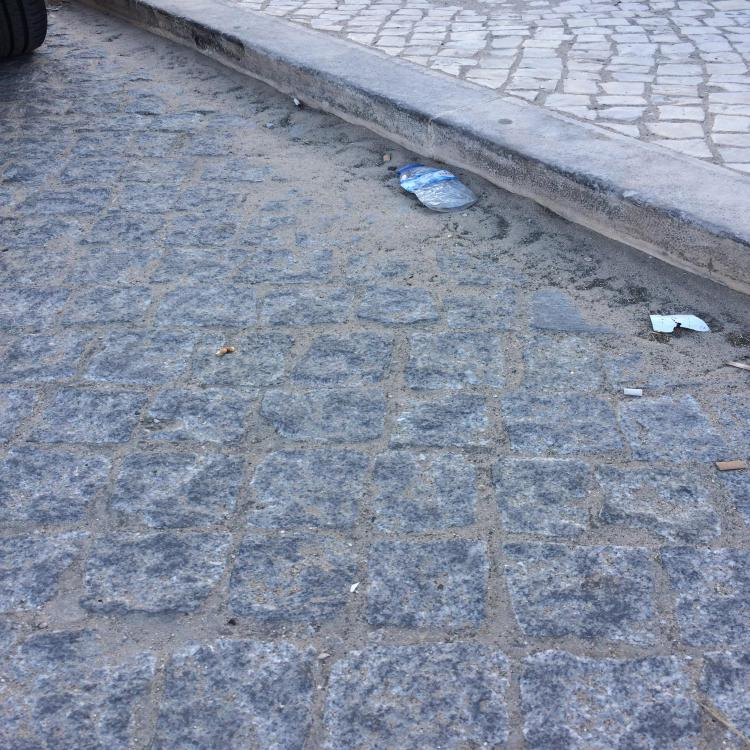Cigarette: (715, 460, 747, 470), (624, 388, 643, 396), (294, 98, 302, 107), (384, 154, 390, 162)
Clear plastic bottle: (399, 163, 478, 212)
Other plastic wrapper: (650, 315, 709, 332)
